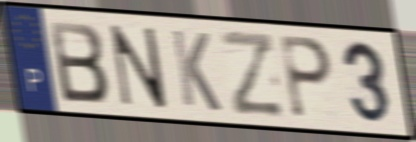3: (338, 38, 396, 127)
B: (46, 18, 111, 105)
K: (168, 26, 224, 115)
N: (108, 22, 170, 111)
P: (278, 32, 334, 122)
Z: (218, 27, 287, 119)
